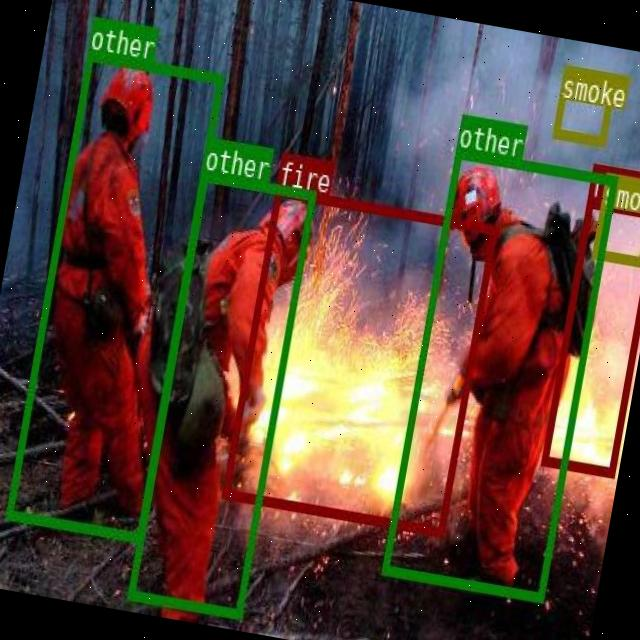fire: (221, 185, 496, 536), (539, 195, 640, 475)
smoke: (552, 64, 616, 144), (590, 169, 640, 265)
